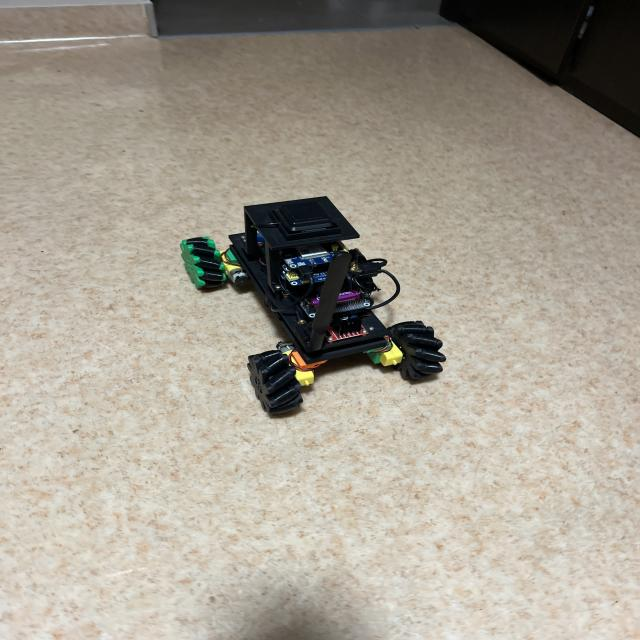robot: (181, 197, 446, 414)
